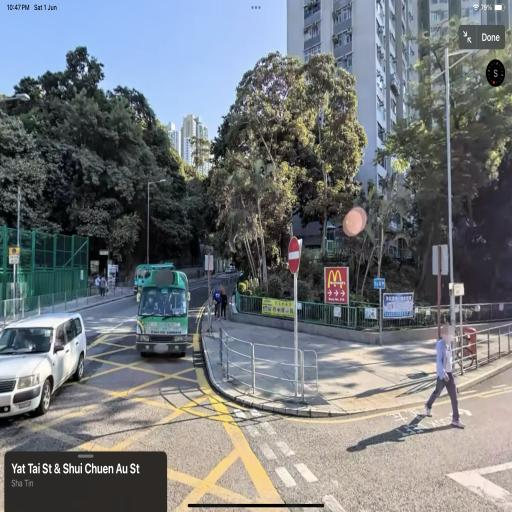Roads: (18, 262, 509, 498)
Trees: (210, 27, 365, 312), (51, 48, 198, 279)
